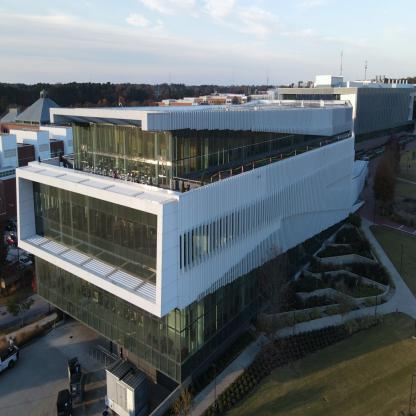Fitts- Woolard: (351, 69, 415, 158)
Hunt Library: (11, 56, 359, 393)
